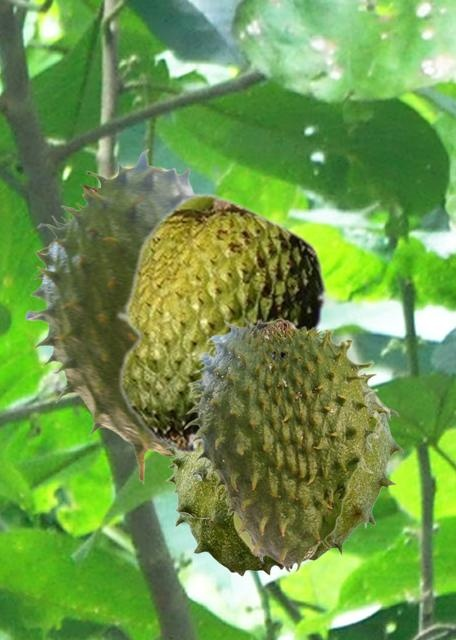guyabano: (25, 149, 194, 483), (115, 192, 327, 457), (183, 317, 390, 572), (164, 371, 403, 575)
